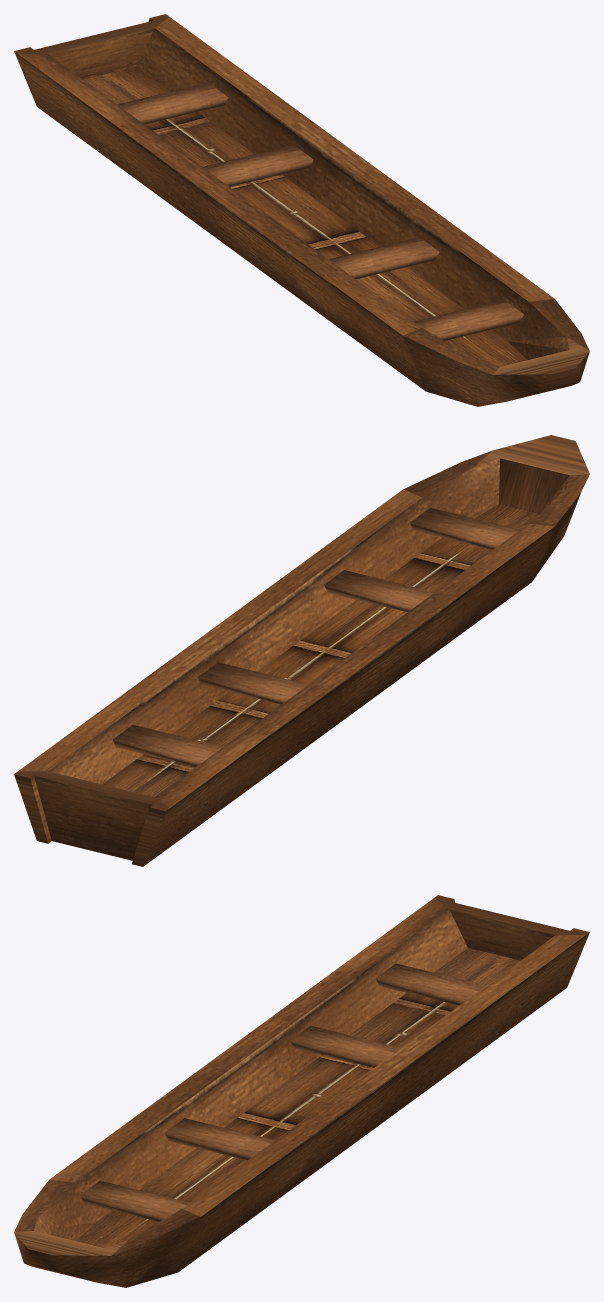
File: canoe_fisher.dae
3 renders of one model, top to bottom at view 1: azimuth 30°, elevation 25°; view 2: azimuth 150°, elevation 25°; view 3: azimuth 330°, elevation 25°, orthographic.
Parts seen in each view (by area): view 1: canoe_fisher; view 2: canoe_fisher; view 3: canoe_fisher.
Part boxes in pixels (box(x1,y1,x2,y2)): canoe_fisher: box(14, 14, 589, 406); canoe_fisher: box(14, 435, 589, 866); canoe_fisher: box(14, 895, 589, 1287).
Size of the model in its own units: 1.99 by 10.77 by 0.8699.
